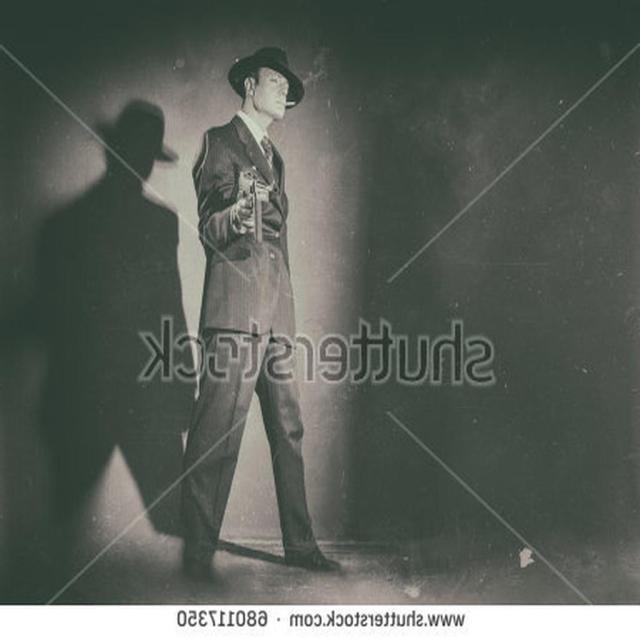smoking: (178, 44, 343, 581)
